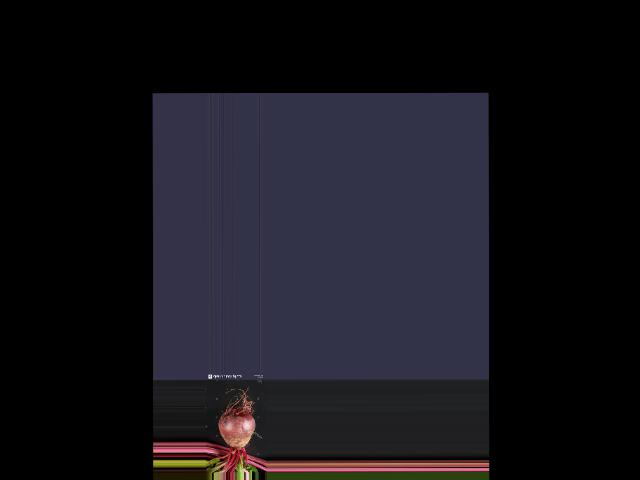beet: (205, 384, 256, 472)
